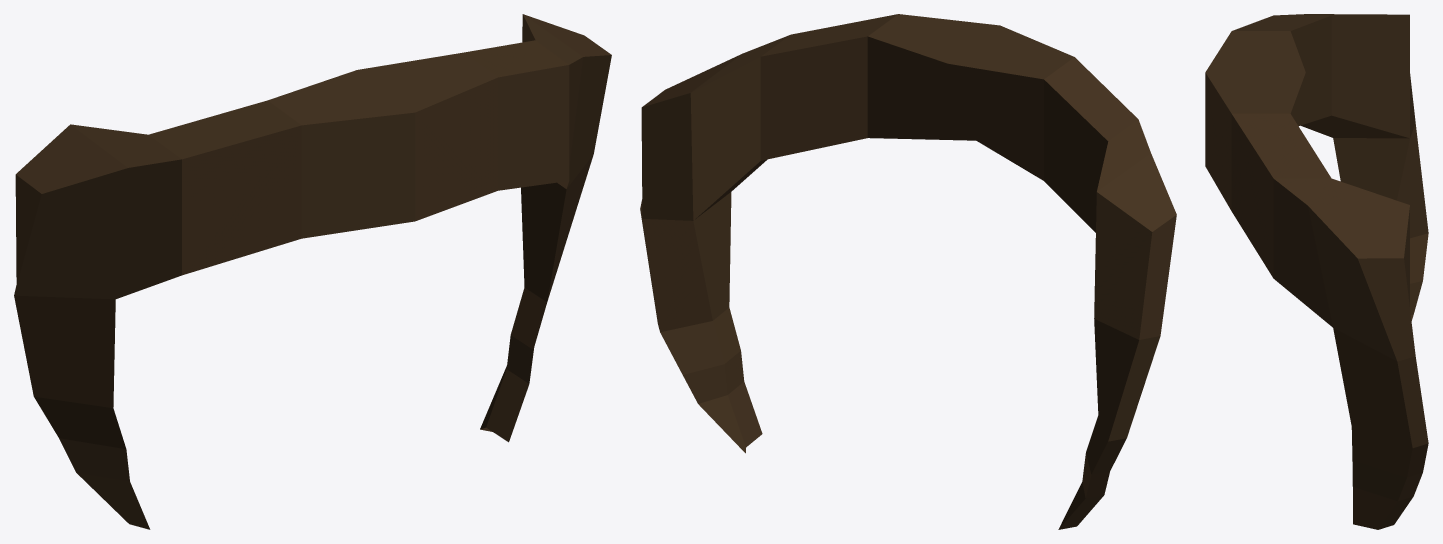
The model's file is Beard_1.fbx.
3 renders of one model, left to right at view 1: azimuth 30°, elevation 25°; view 2: azimuth 150°, elevation 25°; view 3: azimuth 270°, elevation 25°, orthographic. The views are drawn at different scales.
Parts seen in each view (by area): view 1: Cube.065; view 2: Cube.065; view 3: Cube.065.
Boxes of the visible parts, box(x1,y1,x2,y2) form: Cube.065: box(14, 14, 611, 529); Cube.065: box(640, 14, 1176, 529); Cube.065: box(1205, 14, 1428, 529).
Bounding box in the file's own units: 7.28 × 5.28 × 2.82.
